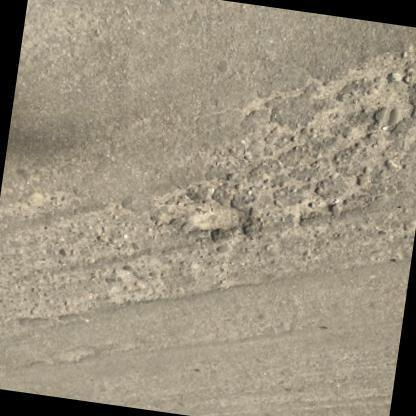pothole: (167, 42, 416, 226), (0, 200, 188, 297)
